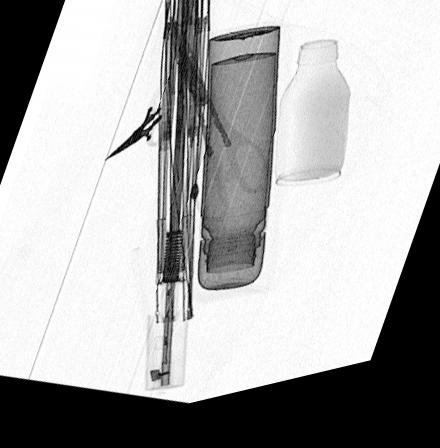Scissors: (167, 22, 273, 234), (102, 84, 185, 166)
